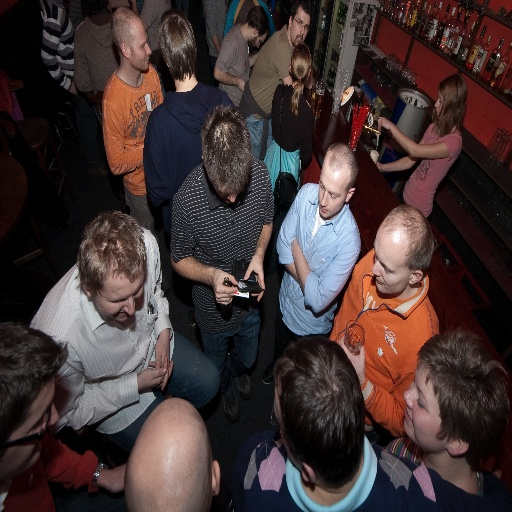hand: (336, 332, 365, 379), (243, 251, 265, 305), (210, 267, 239, 307), (153, 326, 171, 373), (107, 462, 128, 496), (142, 368, 165, 387), (376, 115, 394, 132), (69, 82, 81, 96), (374, 159, 383, 175), (237, 76, 245, 92)
